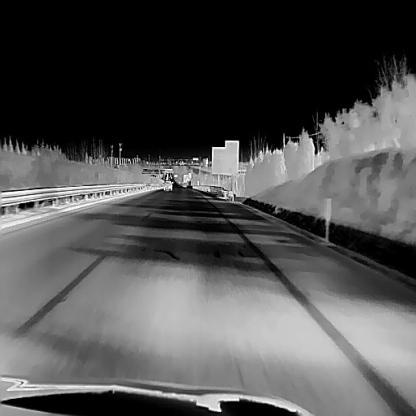car: (162, 180, 173, 190)
